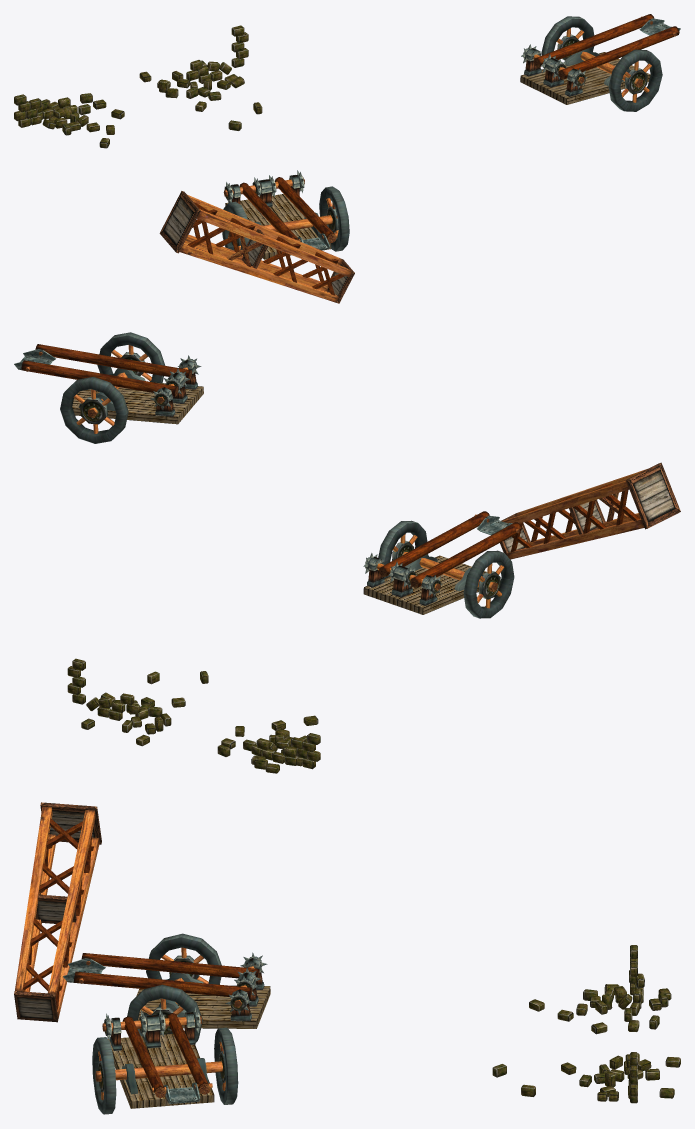
Rendered from CONTRAPTION5_STATIC.fbx.
The picture shows the model from 3 angles, top to bottom: view 1: azimuth 30°, elevation 25°; view 2: azimuth 150°, elevation 25°; view 3: azimuth 270°, elevation 25°; orthographic projection. The views are drawn at different scales.
Parts seen in each view (by area): view 1: CONTRAPTION5_STATIC; view 2: CONTRAPTION5_STATIC; view 3: CONTRAPTION5_STATIC.
Boxes of the visible parts, box(x1,y1,x2,y2) form: CONTRAPTION5_STATIC: box(14, 14, 680, 303); CONTRAPTION5_STATIC: box(14, 332, 680, 773); CONTRAPTION5_STATIC: box(14, 802, 680, 1114).
Bounding box in the file's own units: 235789 × 59838 × 206131.
Materials: 13 (13 with a texture image).
